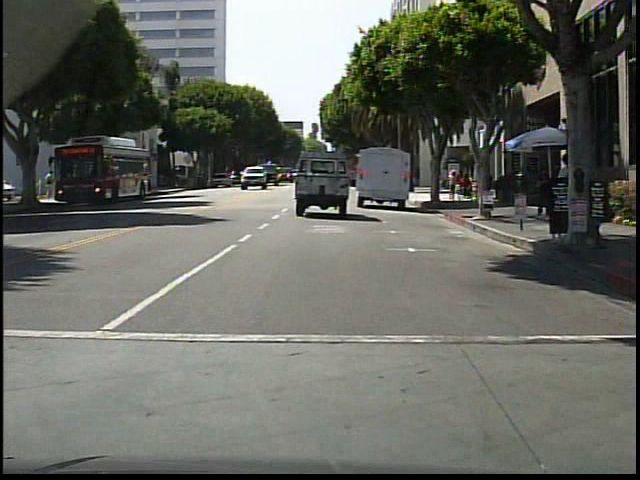person: (533, 169, 550, 218), (553, 152, 569, 180), (446, 170, 458, 203), (436, 167, 446, 203), (44, 170, 56, 198)
